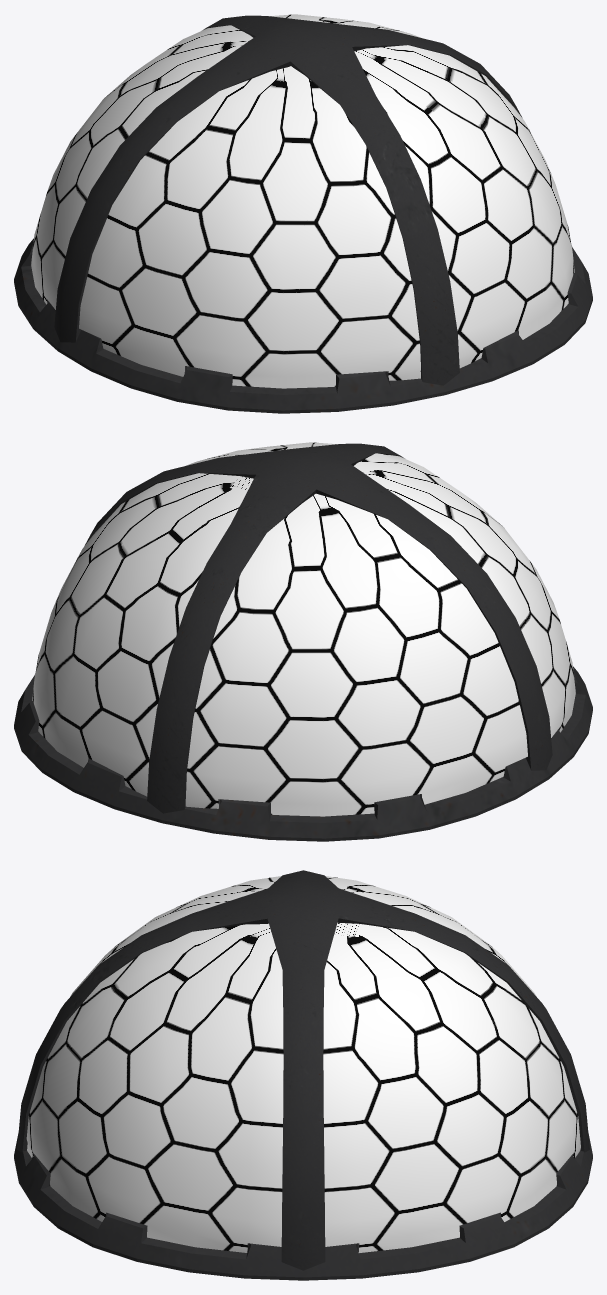
File: dome.fbx
3 views of the same model, one above another, from view 1: azimuth 30°, elevation 25°; view 2: azimuth 150°, elevation 25°; view 3: azimuth 270°, elevation 25° (orthographic). The views are drawn at different scales.
Parts seen in each view (by area): view 1: polySurface1, pCube2, polySurface2; view 2: polySurface1, pCube2, polySurface2; view 3: polySurface1, pCube2, polySurface2.
Part boxes in pixels (x1,y1,x2,y2): polySurface1: (31,14,574,388); pCube2: (54,15,522,385); polySurface2: (14,238,592,413); polySurface1: (32,442,575,816); pCube2: (84,443,552,813); polySurface2: (14,666,592,841); polySurface1: (26,876,580,1252); pCube2: (17,870,589,1270); polySurface2: (14,1133,592,1280).
Bounding box in the file's own units: 454 × 228 × 454.
